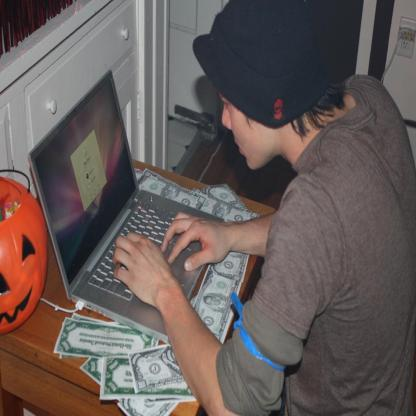board: (22, 64, 247, 350)
